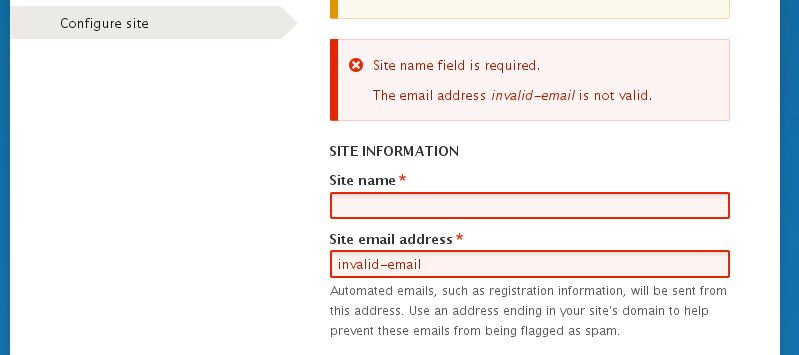error_field: (330, 248, 732, 278), (330, 191, 730, 220)
error_message: (371, 87, 653, 102), (373, 59, 541, 73)
